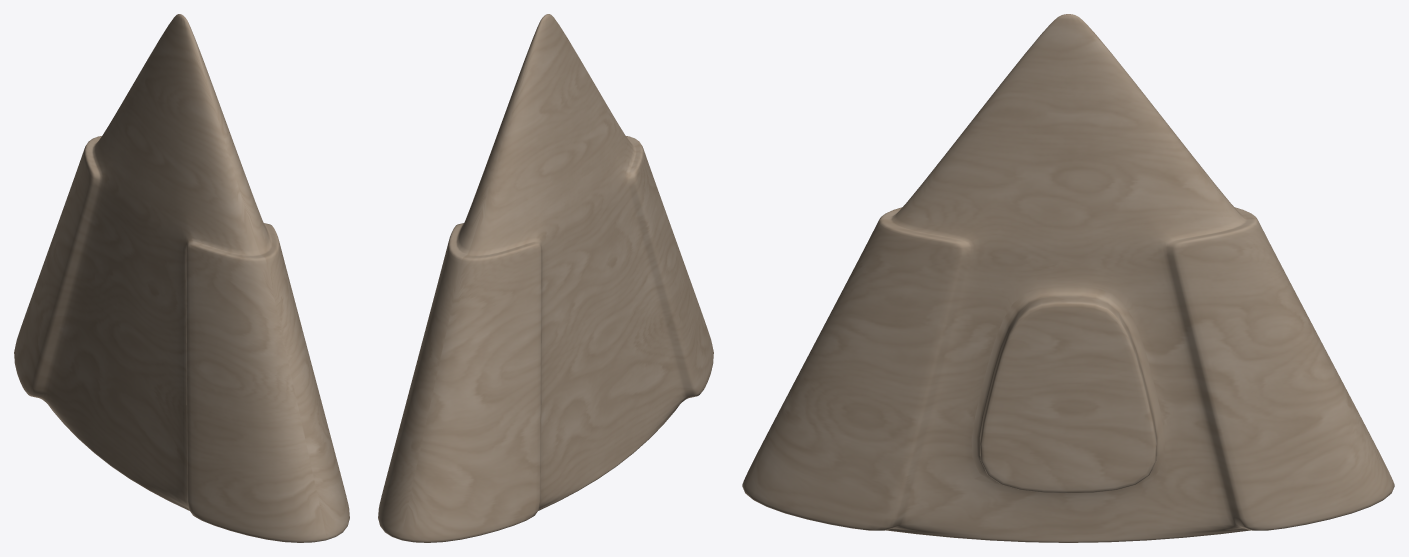
Rendered from base alien haut.fbx.
3 renders of one model, left to right at view 1: azimuth 30°, elevation 25°; view 2: azimuth 150°, elevation 25°; view 3: azimuth 270°, elevation 25°, orthographic. The views are drawn at different scales.
Parts seen in each view (by area): view 1: base haut alien; view 2: base haut alien; view 3: base haut alien.
Boxes of the visible parts, box(x1,y1,x2,y2) form: base haut alien: box(14, 14, 349, 542); base haut alien: box(378, 14, 713, 542); base haut alien: box(742, 14, 1394, 542).
Size of the model in its own units: 25.57 by 66.08 by 79.56.
1 material, 1 textured.
